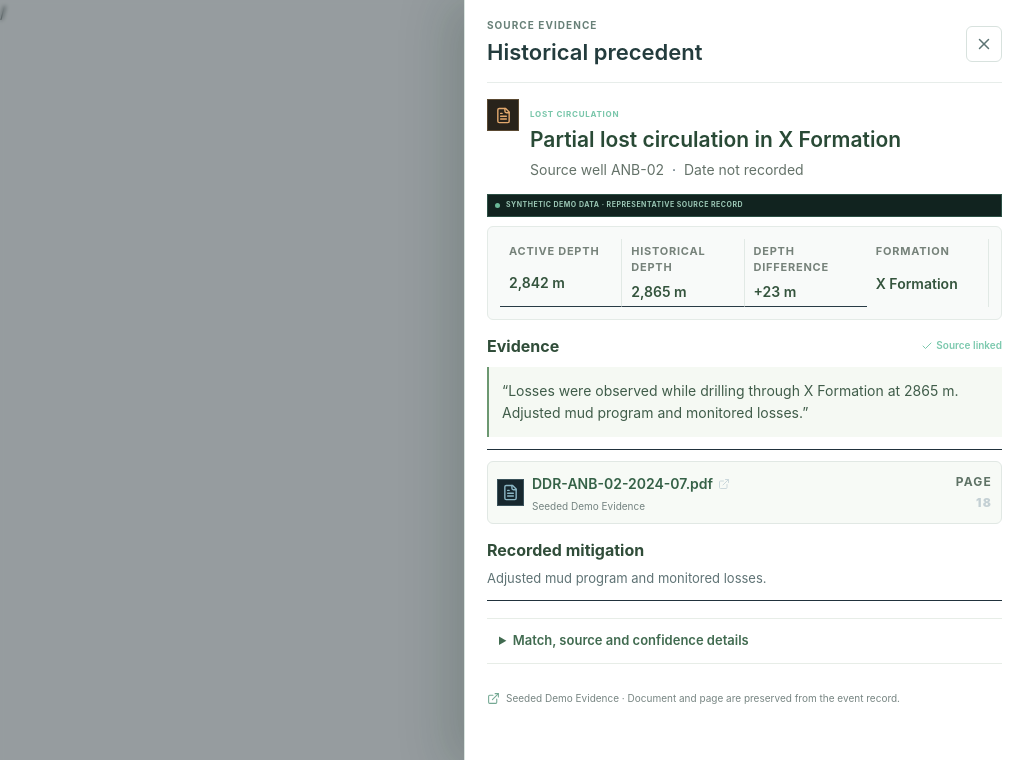
Scenario: trust and evidence layer › renders stored page evidence, source metadata, confidence, and opens the linked source page
Expected: the text "Losses were observed while drilling through X Formation at 2865 m" is shown, [502,382,958,421]
Expected: the text "2,865 m" is shown, [631,282,687,300]
What coordinates should you click on to do the following:
click the heading "Match, source and confidence details"
I would click on:
 (631, 640)
Its box is [513,632,749,648].
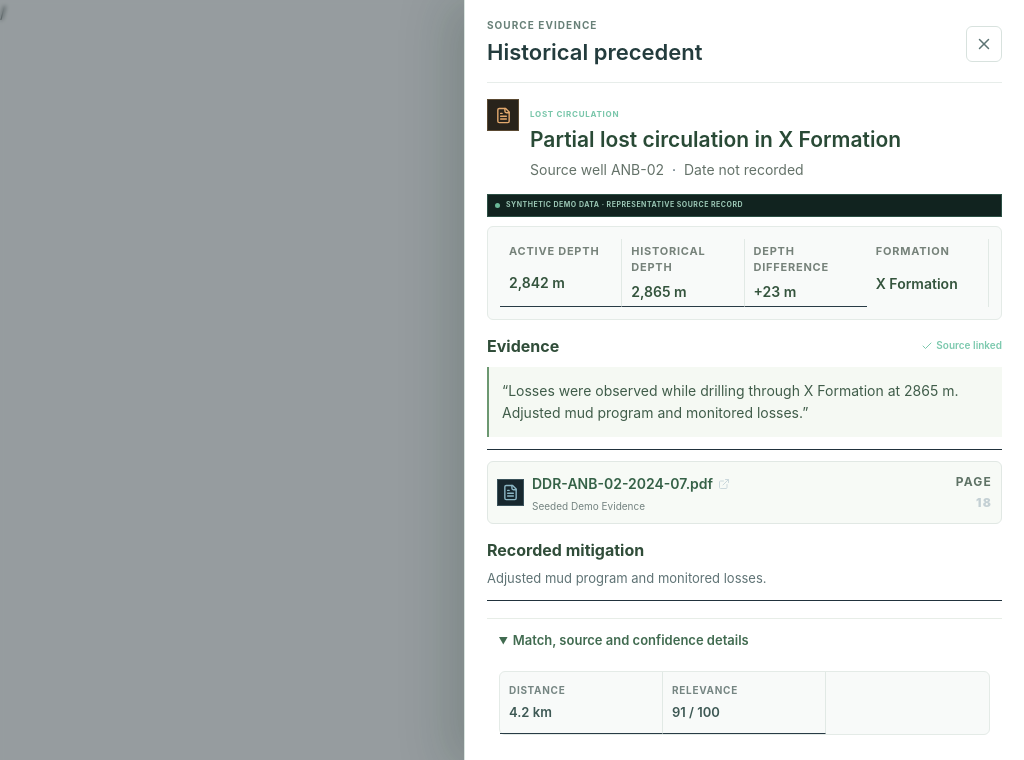
Expected: the text "Adjusted mud program and monitored losses." is shown, [487,570,766,586]
Now the text "4.2 km" is shown, box [509,704,552,720]
Now the text "91 / 100" is shown, box [672,704,720,720]
What coordinates should you click on to do the following:
click the link with aria-label "Open stored evidence at source page 18"
I would click on:
 (974, 493)
Its box is [956,473,992,512].
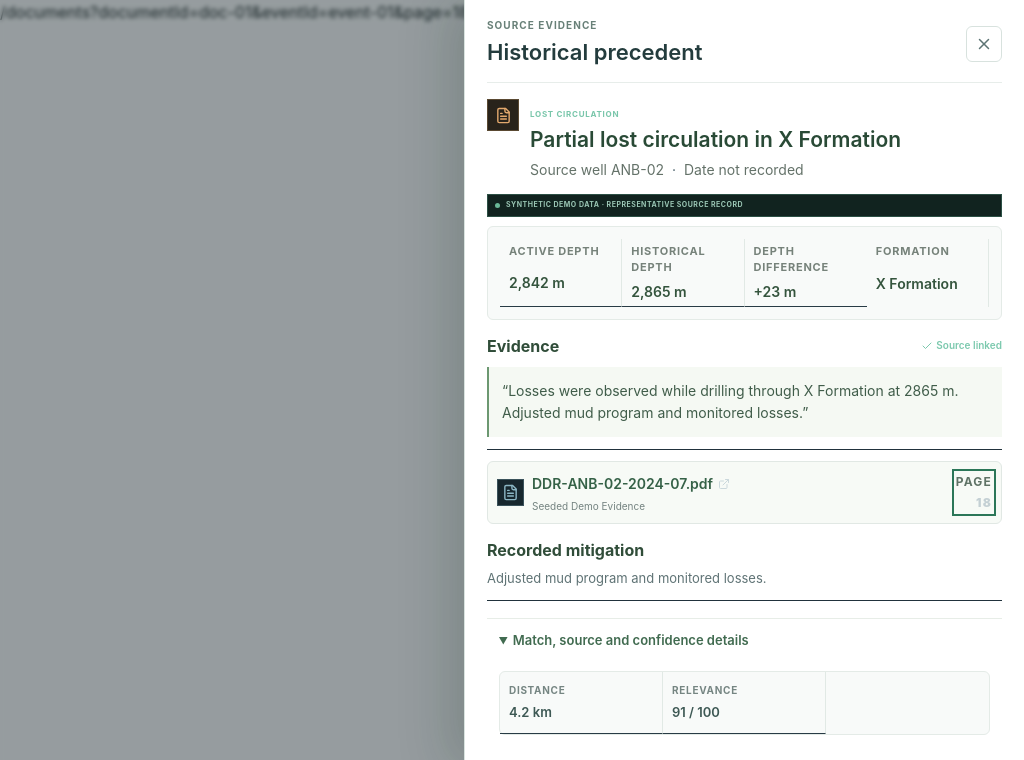
Now the text with test id "current-location" reads "/documents?documentId=doc-01&eventId=event-01&page=18", box [0,2,469,22]
